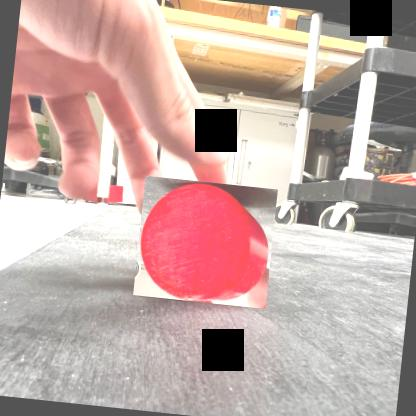red cylinder: (132, 176, 278, 309)
